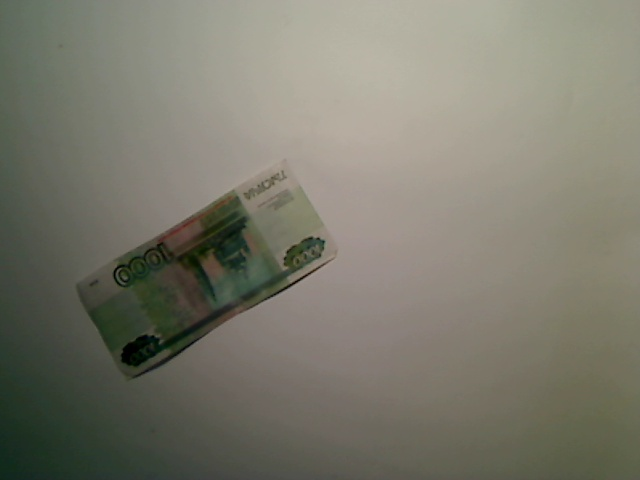banknotes: (72, 155, 343, 385)
